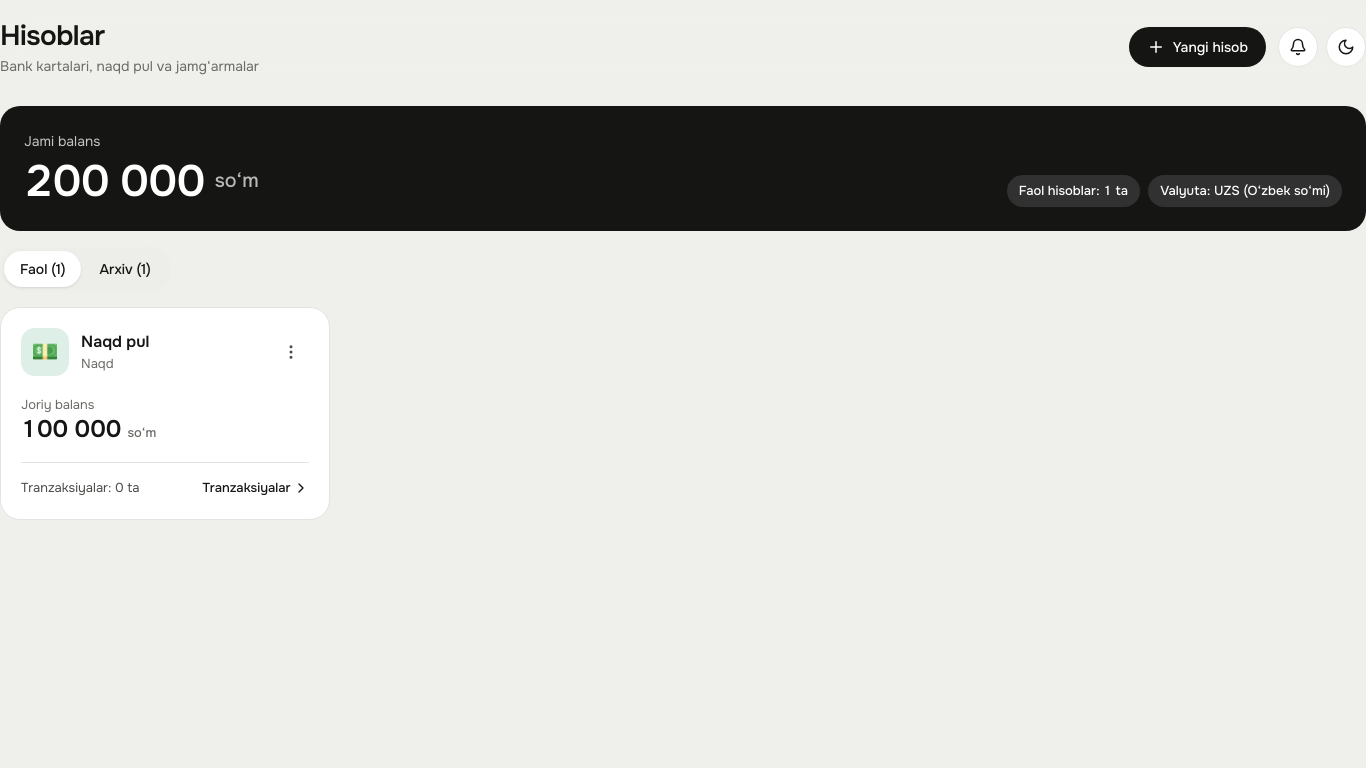
Test case: AccountsPage › never leaves the user without an active account
The width and height of the screenshot is (1366, 768).
expect the text "Naqd pul" is shown: met, box [81,331,153,353]
What coordinates should you click on to do the following:
click the button named "Amallar"
I would click on:
 (290, 352)
Its box is [272,334,308,370].
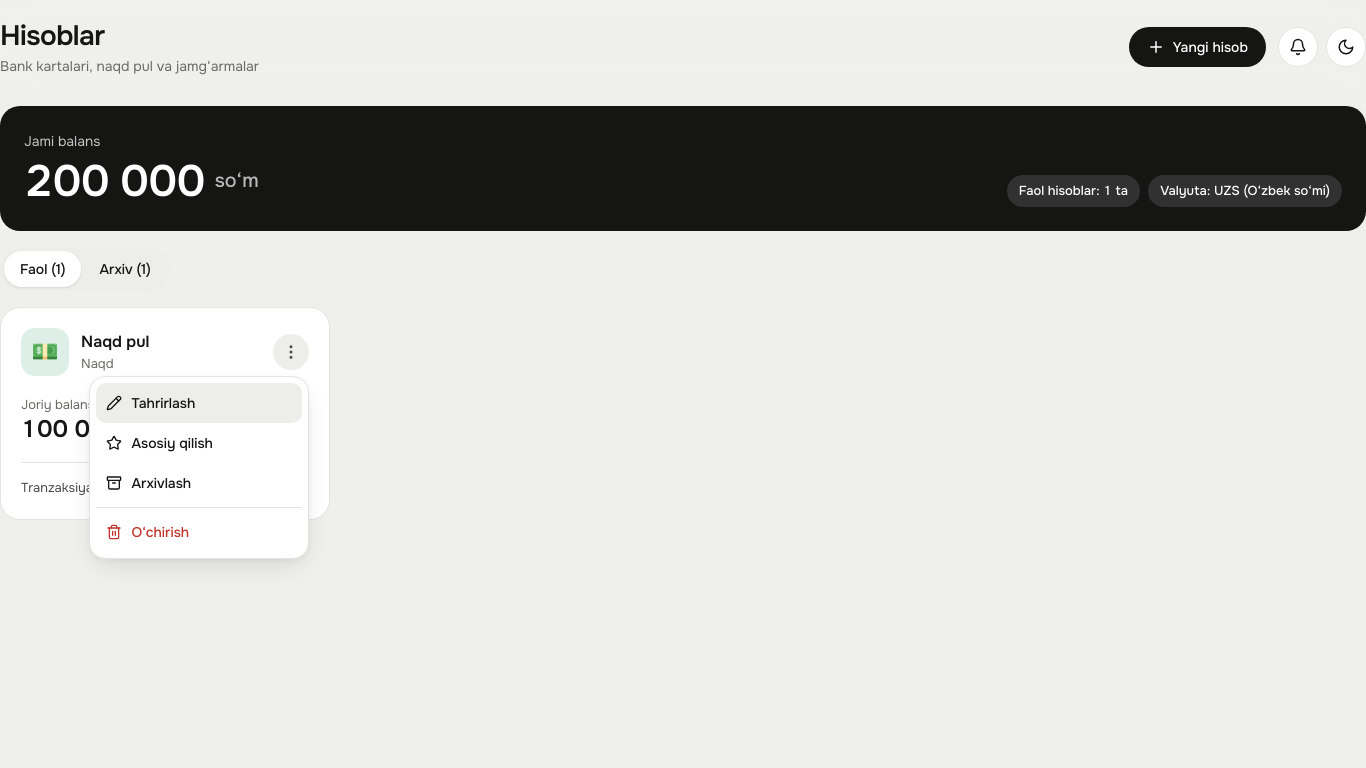
What coordinates should you click on to do the following:
click the menu item "Arxivlash"
I would click on:
 (198, 483)
Its box is [96,463,302,503].
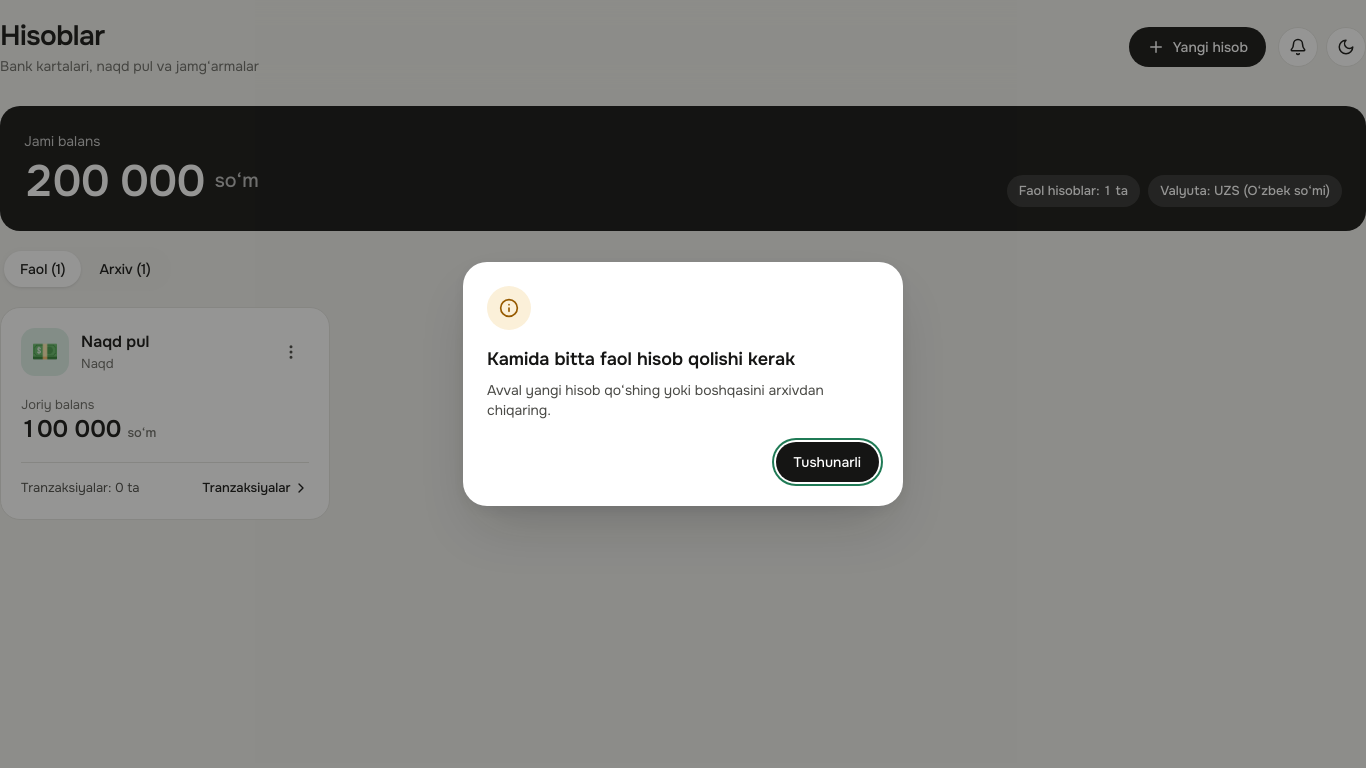
expect the dialog shows "Kamida bitta faol hisob qolishi kerak": met, box [487,348,795,370]
